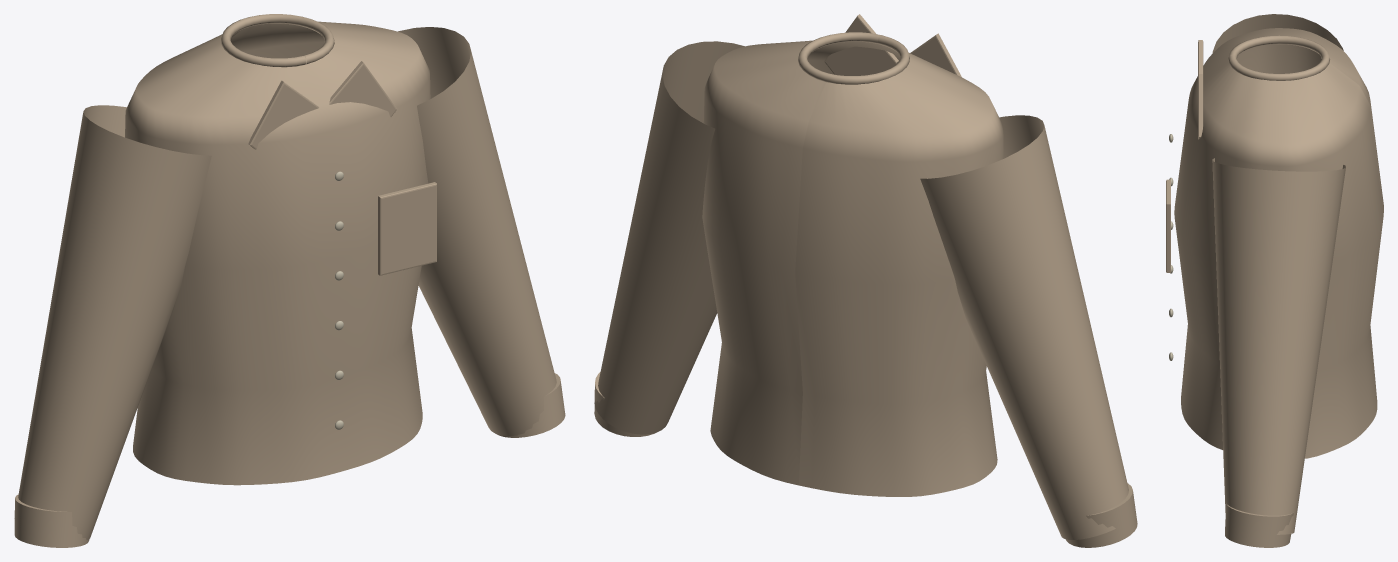
The model's file is chemise-medina-femme.glb.
3 views of the same model, side by side, from view 1: azimuth 30°, elevation 25°; view 2: azimuth 150°, elevation 25°; view 3: azimuth 270°, elevation 25° (orthographic). The views are drawn at different scales.
Parts seen in each view (by area): view 1: edit-07, long-sleeve (×2); view 2: edit-07, long-sleeve (×2); view 3: edit-07, long-sleeve (×2).
Boxes of the visible parts, box(x1,y1,x2,y2) form: edit-07: box(14, 14, 565, 547); long-sleeve (×2): box(18, 27, 556, 539); edit-07: box(594, 14, 1137, 547); long-sleeve (×2): box(594, 41, 1128, 539); edit-07: box(1166, 28, 1383, 547); long-sleeve (×2): box(1212, 14, 1345, 534).
Bounding box in the file's own units: 0.7505 × 0.5844 × 0.2985.
